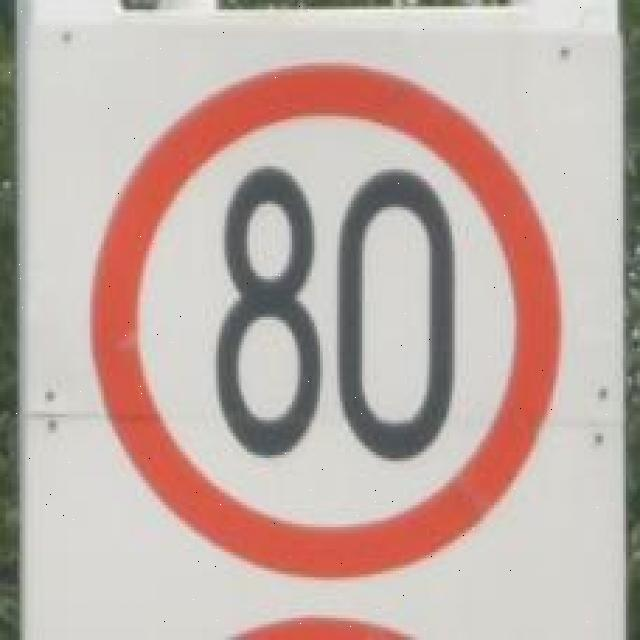speed limit 80: (85, 60, 564, 584)
